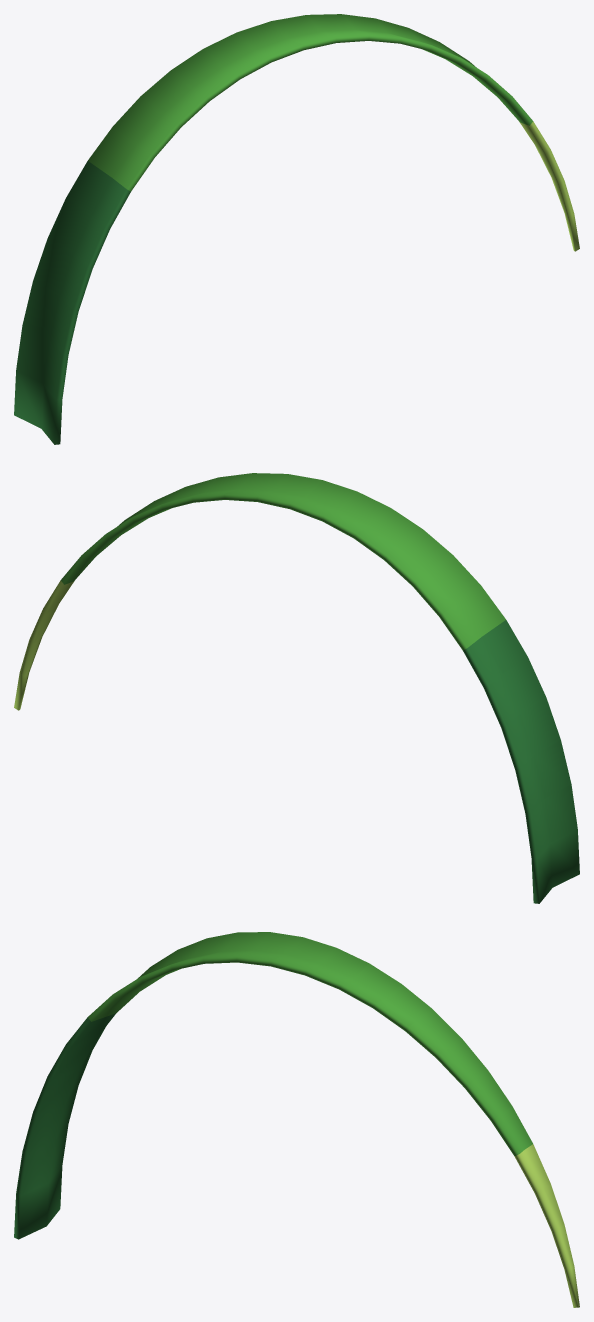
File: glade_grass_blade_arch.glb
The picture shows the model from 3 angles, top to bottom: view 1: azimuth 30°, elevation 25°; view 2: azimuth 150°, elevation 25°; view 3: azimuth 330°, elevation 25°; orthographic projection.
Parts seen in each view (by area): view 1: glade_grass_blade_arch; view 2: glade_grass_blade_arch; view 3: glade_grass_blade_arch.
Part boxes in pixels (bbox=[...]): glade_grass_blade_arch: bbox=[14, 14, 579, 444]; glade_grass_blade_arch: bbox=[14, 473, 579, 903]; glade_grass_blade_arch: bbox=[14, 932, 579, 1307].
Bounding box in the file's own units: 27.16 × 16 × 3.6.
